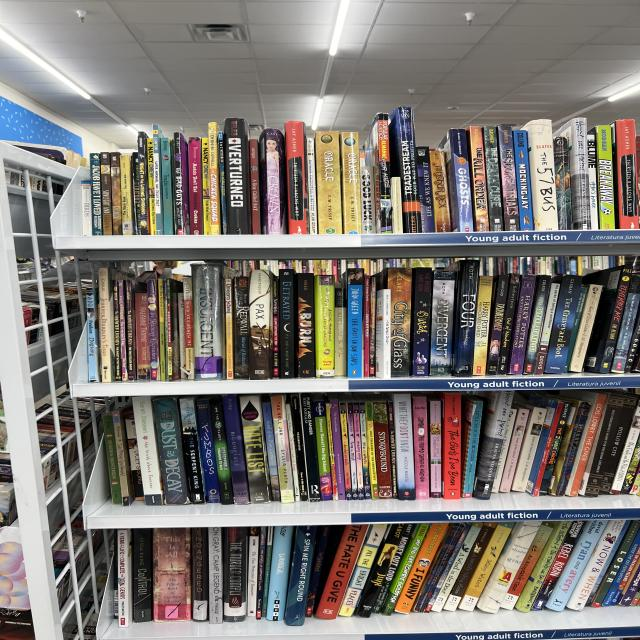book: (183, 276, 251, 379), (474, 514, 541, 617), (579, 392, 639, 501), (544, 513, 608, 615), (513, 515, 573, 615), (391, 518, 451, 617), (351, 519, 408, 621), (313, 519, 369, 622), (456, 517, 515, 614), (529, 517, 587, 615), (413, 519, 471, 617), (497, 517, 556, 613), (467, 387, 516, 501), (442, 520, 497, 614), (429, 521, 484, 615), (378, 520, 431, 617), (337, 521, 388, 619), (367, 519, 419, 615), (590, 516, 640, 613), (387, 106, 422, 234), (593, 267, 633, 375), (191, 263, 226, 380), (524, 119, 560, 232), (152, 397, 189, 506), (533, 400, 575, 496), (550, 400, 591, 498), (544, 273, 583, 376), (282, 524, 318, 627), (132, 395, 165, 506), (153, 529, 191, 621), (509, 405, 548, 494), (223, 118, 252, 235), (450, 260, 479, 376), (519, 274, 552, 375), (221, 394, 251, 505), (567, 282, 603, 374), (239, 394, 269, 504), (177, 396, 207, 505), (444, 129, 475, 233), (507, 273, 537, 375), (206, 401, 235, 506), (612, 119, 639, 229), (314, 132, 343, 234), (429, 271, 457, 376), (371, 113, 395, 234), (497, 407, 530, 494), (265, 524, 294, 622), (611, 274, 640, 372), (259, 129, 286, 234), (285, 121, 309, 235), (533, 281, 562, 375), (409, 267, 434, 376), (567, 118, 591, 230), (496, 273, 522, 376), (456, 399, 483, 498), (484, 274, 510, 376), (466, 126, 491, 232), (302, 525, 330, 619), (249, 270, 273, 379), (271, 395, 295, 503), (299, 393, 322, 503), (389, 268, 412, 377), (287, 394, 310, 502), (393, 394, 416, 501), (497, 125, 520, 231), (512, 129, 535, 231), (111, 409, 135, 506), (594, 125, 616, 229), (223, 528, 247, 622), (260, 399, 282, 501), (483, 126, 504, 232), (471, 275, 493, 376), (335, 401, 357, 500), (371, 401, 393, 500), (96, 268, 115, 382), (314, 276, 335, 377), (552, 135, 574, 230), (345, 269, 364, 378), (327, 398, 347, 500), (101, 413, 123, 505), (428, 149, 452, 233), (313, 400, 333, 500), (442, 394, 461, 499), (279, 270, 297, 379), (414, 146, 436, 233), (114, 529, 133, 627), (132, 529, 152, 622), (297, 274, 315, 377), (206, 123, 222, 234), (412, 397, 429, 499), (159, 137, 176, 235), (344, 403, 361, 500), (172, 133, 188, 234), (363, 401, 379, 500), (191, 528, 208, 620), (117, 154, 136, 236), (187, 137, 203, 234), (180, 277, 195, 379), (150, 125, 164, 234), (146, 280, 161, 379), (357, 402, 372, 500), (304, 137, 319, 234), (375, 289, 391, 379), (428, 399, 442, 497), (85, 290, 100, 381), (245, 527, 260, 617), (586, 128, 599, 229), (618, 316, 640, 375), (248, 139, 261, 234), (255, 526, 268, 619), (178, 134, 190, 234), (124, 280, 136, 380), (261, 527, 274, 618), (387, 401, 399, 498), (145, 138, 157, 235), (99, 152, 113, 235), (217, 130, 228, 234), (89, 154, 103, 235), (224, 278, 235, 379), (335, 283, 346, 376), (621, 438, 639, 494), (157, 279, 166, 380), (363, 274, 371, 377), (202, 137, 210, 234), (369, 276, 376, 377)
